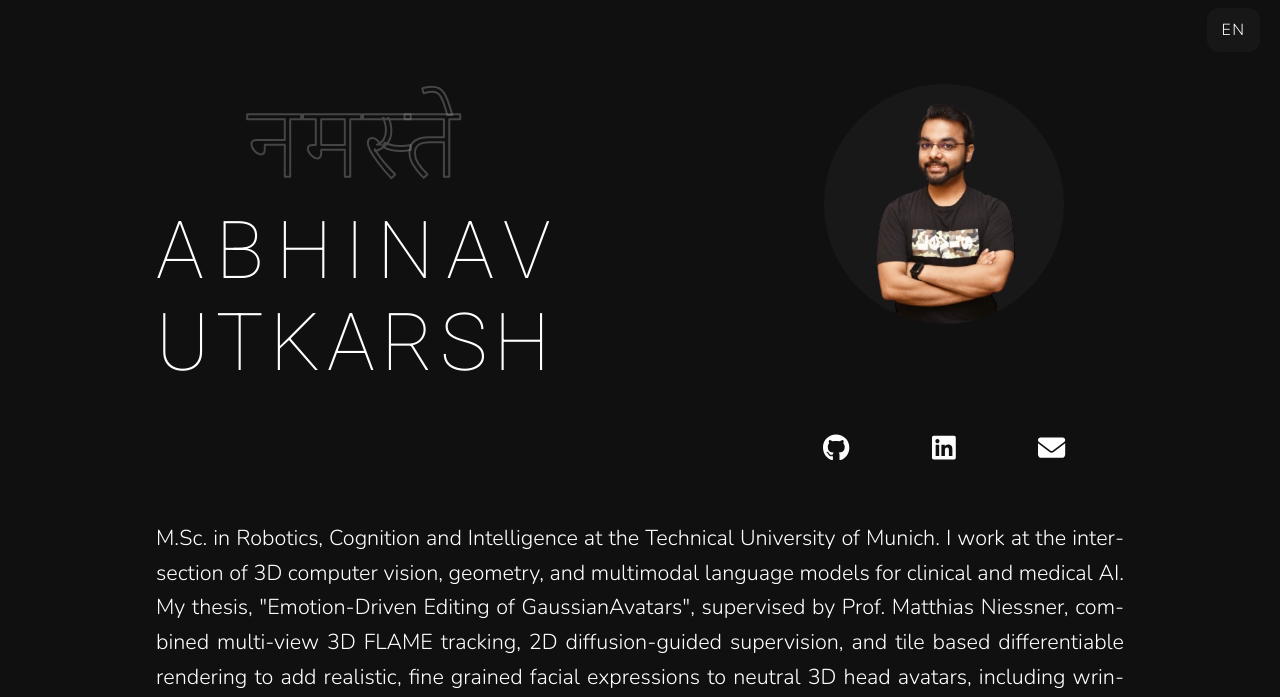
Scenario: View More keeps the language
The width and height of the screenshot is (1280, 697).
Click the button with aria-label "Deutsch".
click(1234, 30)  # box [1207,8,1260,52]
Wait 400 ms
(page scrolled)
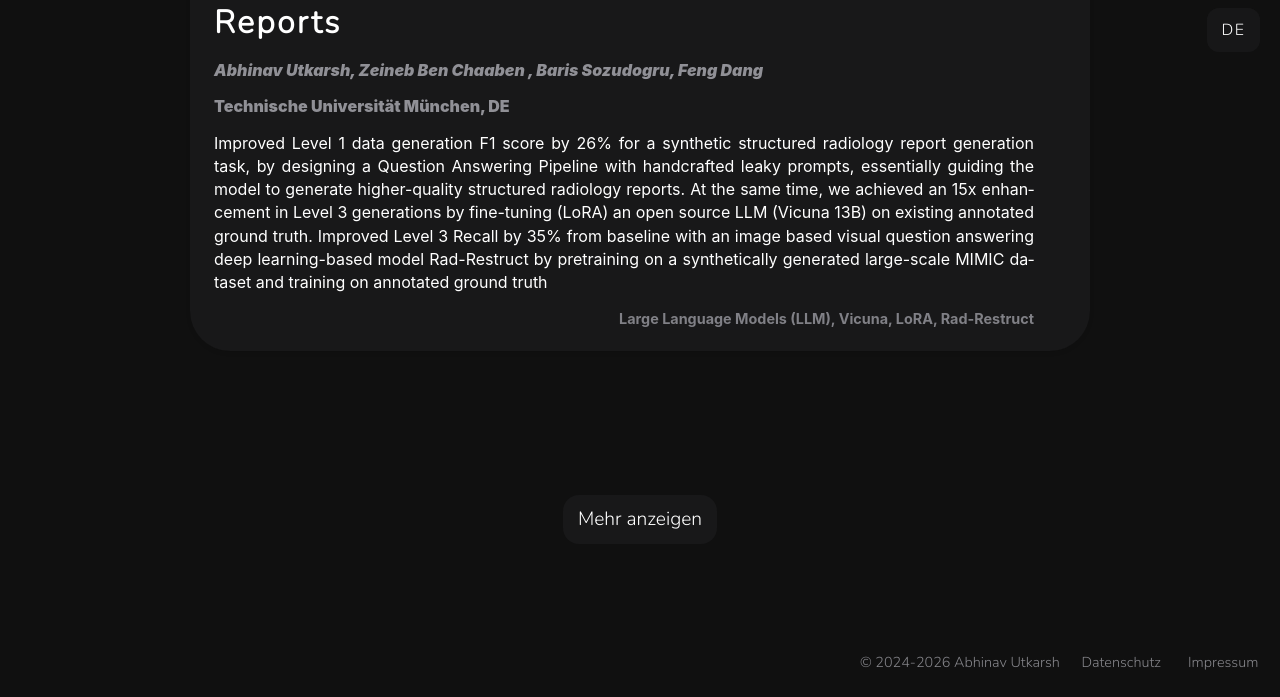
Click the button "Mehr anzeigen".
click(640, 519)  # box [564,495,716,544]
Wait 400 ms
(page scrolled)
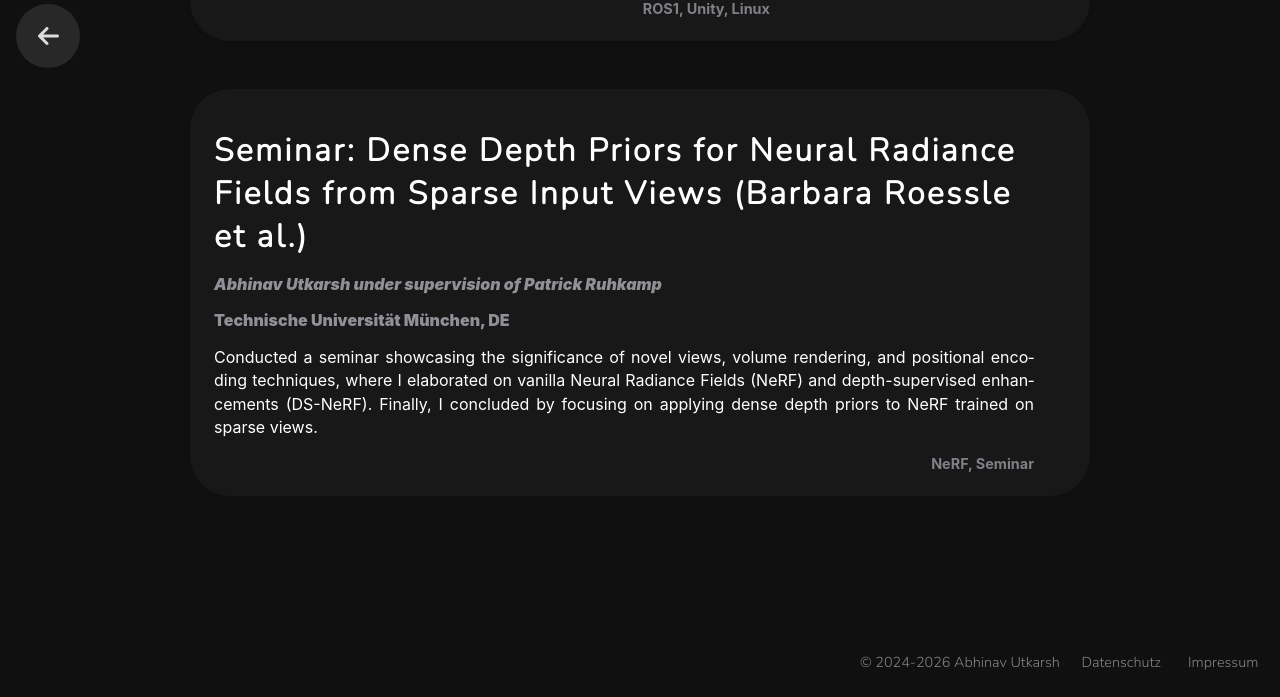
Result: the button named "Zurück" is shown at [16,4,80,68]
